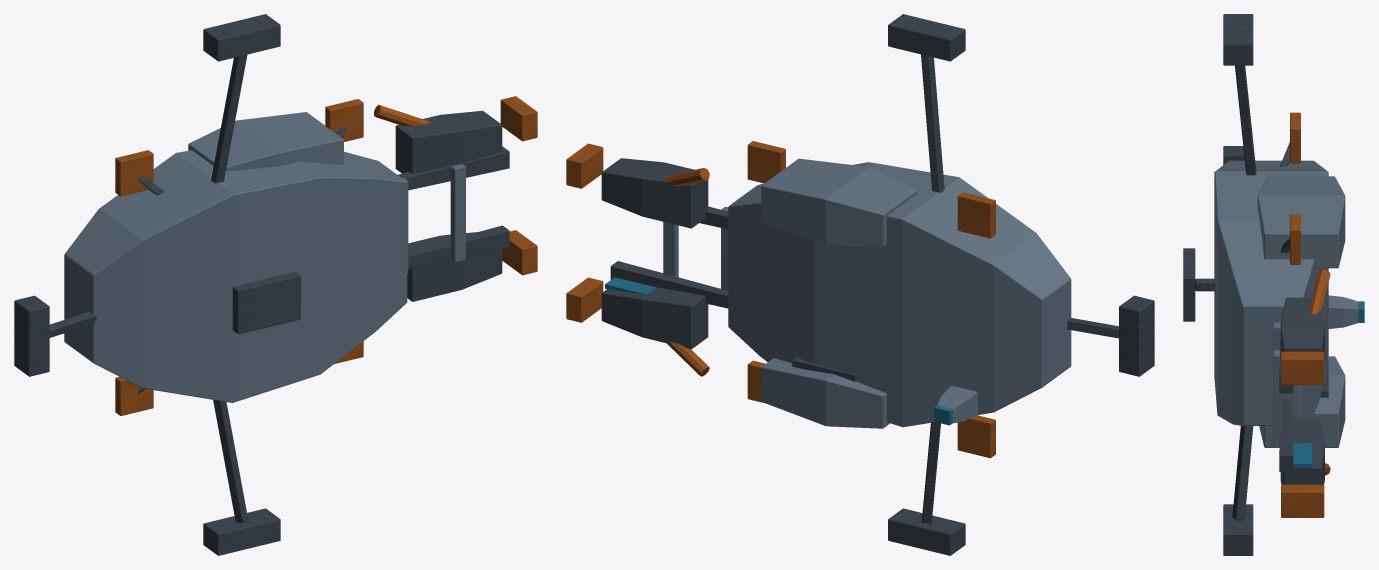
The model's file is place_claim_outpost_base.glb.
3 views of the same model, side by side, from view 1: azimuth 30°, elevation 25°; view 2: azimuth 150°, elevation 25°; view 3: azimuth 270°, elevation 25° (orthographic).
Parts seen in each view (by area): view 1: LOD0_Station_Material_Hull, LOD1_Station_Material_Hull, LOD0_Station_Material_Mechanical, LOD2_Station_Material_Hull, LOD2_Station_Material_Mechanical, LOD1_Station_Material_Mechanical, LOD2_Station_Material_Warm, LOD0_Station_Material_Warm, LOD1_Station_Material_Warm; view 2: LOD0_Station_Material_Hull, LOD1_Station_Material_Hull, LOD2_Station_Material_Hull, LOD0_Station_Material_Mechanical, LOD2_Station_Material_Mechanical, LOD1_Station_Material_Mechanical, LOD2_Station_Material_Warm, LOD1_Station_Material_Warm, LOD0_Station_Material_Warm; view 3: LOD0_Station_Material_Hull, LOD1_Station_Material_Hull, LOD2_Station_Material_Hull, LOD2_Station_Material_Mechanical, LOD0_Station_Material_Mechanical, LOD1_Station_Material_Mechanical, LOD0_Station_Material_Warm, LOD2_Station_Material_Warm, LOD1_Station_Material_Warm, LOD0_Station_Material_Accent, LOD1_Station_Material_Accent, LOD2_Station_Material_Accent.
Part boxes in pixels (<box>): LOD0_Station_Material_Hull: <box>65,122,465,400</box>; LOD1_Station_Material_Hull: <box>64,112,465,401</box>; LOD0_Station_Material_Mechanical: <box>14,14,509,553</box>; LOD2_Station_Material_Hull: <box>64,112,465,402</box>; LOD2_Station_Material_Mechanical: <box>14,14,509,555</box>; LOD1_Station_Material_Mechanical: <box>15,14,509,555</box>; LOD2_Station_Material_Warm: <box>115,96,537,415</box>; LOD0_Station_Material_Warm: <box>115,97,536,403</box>; LOD1_Station_Material_Warm: <box>115,96,537,412</box>; LOD0_Station_Material_Hull: <box>664,162,1070,426</box>; LOD1_Station_Material_Hull: <box>663,165,1070,428</box>; LOD2_Station_Material_Hull: <box>663,158,1071,428</box>; LOD0_Station_Material_Mechanical: <box>603,14,1152,549</box>; LOD2_Station_Material_Mechanical: <box>601,14,1154,555</box>; LOD1_Station_Material_Mechanical: <box>602,14,1153,554</box>; LOD2_Station_Material_Warm: <box>566,141,995,458</box>; LOD1_Station_Material_Warm: <box>567,142,995,457</box>; LOD0_Station_Material_Warm: <box>567,144,995,456</box>; LOD0_Station_Material_Hull: <box>1214,160,1357,447</box>; LOD1_Station_Material_Hull: <box>1214,160,1357,447</box>; LOD2_Station_Material_Hull: <box>1214,161,1358,447</box>; LOD2_Station_Material_Mechanical: <box>1183,14,1328,555</box>; LOD0_Station_Material_Mechanical: <box>1184,14,1327,553</box>; LOD1_Station_Material_Mechanical: <box>1184,14,1327,555</box>; LOD0_Station_Material_Warm: <box>1282,113,1322,516</box>; LOD2_Station_Material_Warm: <box>1281,112,1330,517</box>; LOD1_Station_Material_Warm: <box>1281,113,1323,517</box>; LOD0_Station_Material_Accent: <box>1293,301,1363,467</box>; LOD1_Station_Material_Accent: <box>1293,301,1364,468</box>; LOD2_Station_Material_Accent: <box>1293,301,1364,467</box>.
Size of what is drawn, in the model's own units: 103 by 94.05 by 30.17.
5 materials, 5 textured.
